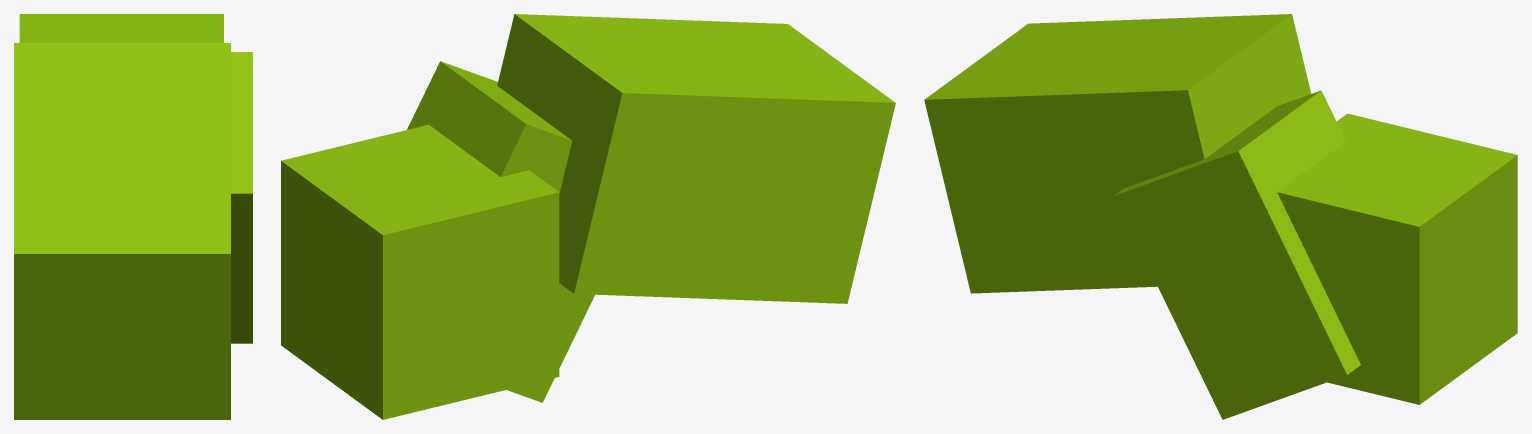
Rendered from tree_big_7_boxy.fbx.
3 renders of one model, left to right at view 1: azimuth 30°, elevation 25°; view 2: azimuth 150°, elevation 25°; view 3: azimuth 270°, elevation 25°, orthographic. The views are drawn at different scales.
Parts seen in each view (by area): view 1: tree_big_7_boxy; view 2: tree_big_7_boxy; view 3: tree_big_7_boxy.
Boxes of the visible parts, x1,y1,x2,y2 form: tree_big_7_boxy: (14, 14, 252, 419); tree_big_7_boxy: (281, 14, 895, 419); tree_big_7_boxy: (924, 14, 1517, 419).
Size of the model in its own units: 157 by 117 by 203.
